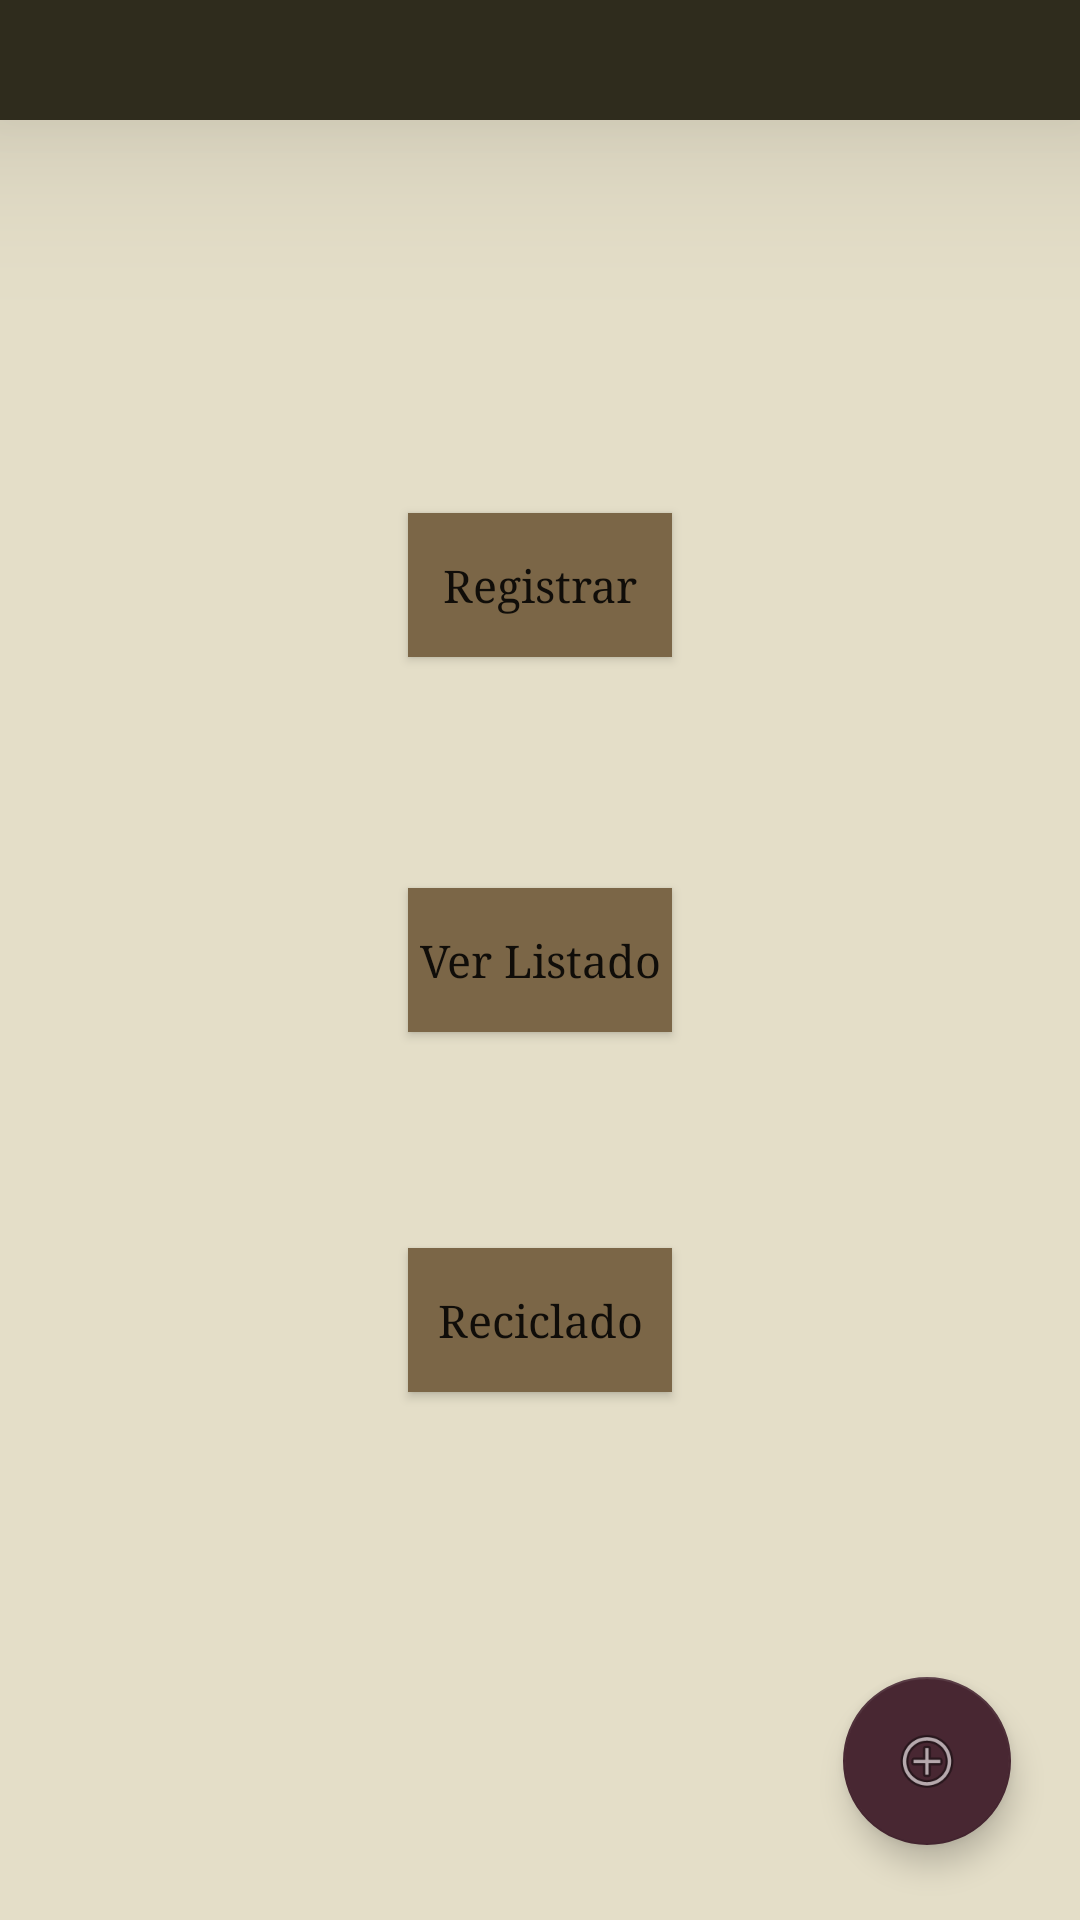

Screen size 1080×1920. Icon name, then its box in pixels as (x1,y1,x2,y2):
add: (843,1677,1011,1845)
